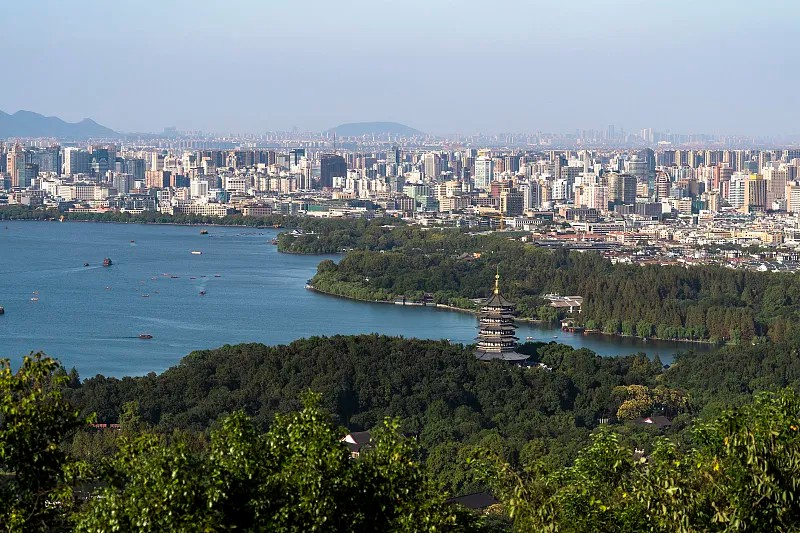Leifeng: (472, 263, 526, 364)
